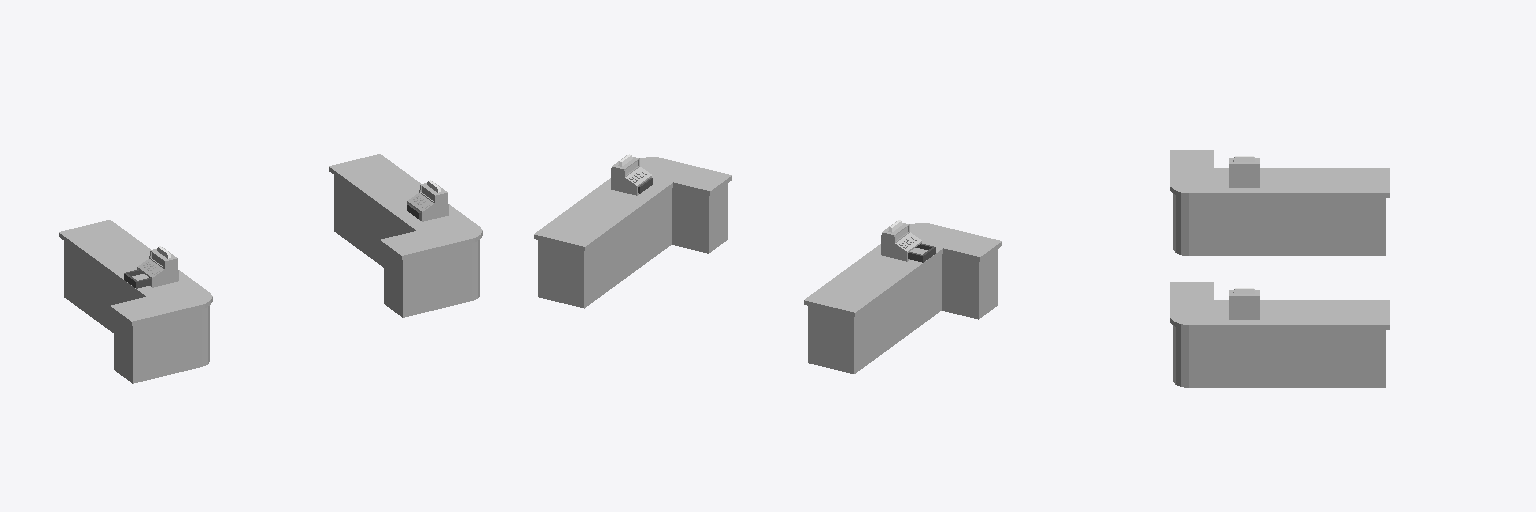
Rendered from Cashbox.obj.
The picture shows the model from 3 angles: view 1: azimuth 30°, elevation 25°; view 2: azimuth 150°, elevation 25°; view 3: azimuth 270°, elevation 25°; orthographic projection.
Visible parts, largest first — view 1: Куб.002_Куб.018, Куб.005_Куб.024, Куб.006_Куб.019, Куб.004_Куб.023, Куб.003, Куб.007_Куб.020; view 2: Куб.002_Куб.018, Куб.005_Куб.024, Куб.006_Куб.019, Куб.004_Куб.023, Куб.003, Куб.007_Куб.020; view 3: Куб.002_Куб.018, Куб.005_Куб.024, Куб.004_Куб.023, Куб.006_Куб.019, Куб.007_Куб.020, Куб.003.
Part boxes in pixels (bbox=[...]): Куб.002_Куб.018: bbox=[334, 175, 479, 317]; Куб.005_Куб.024: bbox=[64, 241, 209, 383]; Куб.006_Куб.019: bbox=[329, 154, 482, 259]; Куб.004_Куб.023: bbox=[59, 220, 212, 325]; Куб.003: bbox=[124, 246, 178, 288]; Куб.007_Куб.020: bbox=[407, 180, 448, 221]; Куб.002_Куб.018: bbox=[538, 183, 727, 308]; Куб.005_Куб.024: bbox=[808, 249, 997, 373]; Куб.006_Куб.019: bbox=[534, 157, 731, 250]; Куб.004_Куб.023: bbox=[804, 223, 1001, 316]; Куб.003: bbox=[881, 220, 935, 262]; Куб.007_Куб.020: bbox=[611, 154, 652, 195]; Куб.002_Куб.018: bbox=[1173, 325, 1385, 387]; Куб.005_Куб.024: bbox=[1173, 194, 1385, 255]; Куб.004_Куб.023: bbox=[1170, 150, 1389, 197]; Куб.006_Куб.019: bbox=[1170, 282, 1389, 329]; Куб.007_Куб.020: bbox=[1229, 288, 1259, 319]; Куб.003: bbox=[1229, 156, 1259, 187].
Bounding box in the file's own units: 11.95 × 2.92 × 6.36.